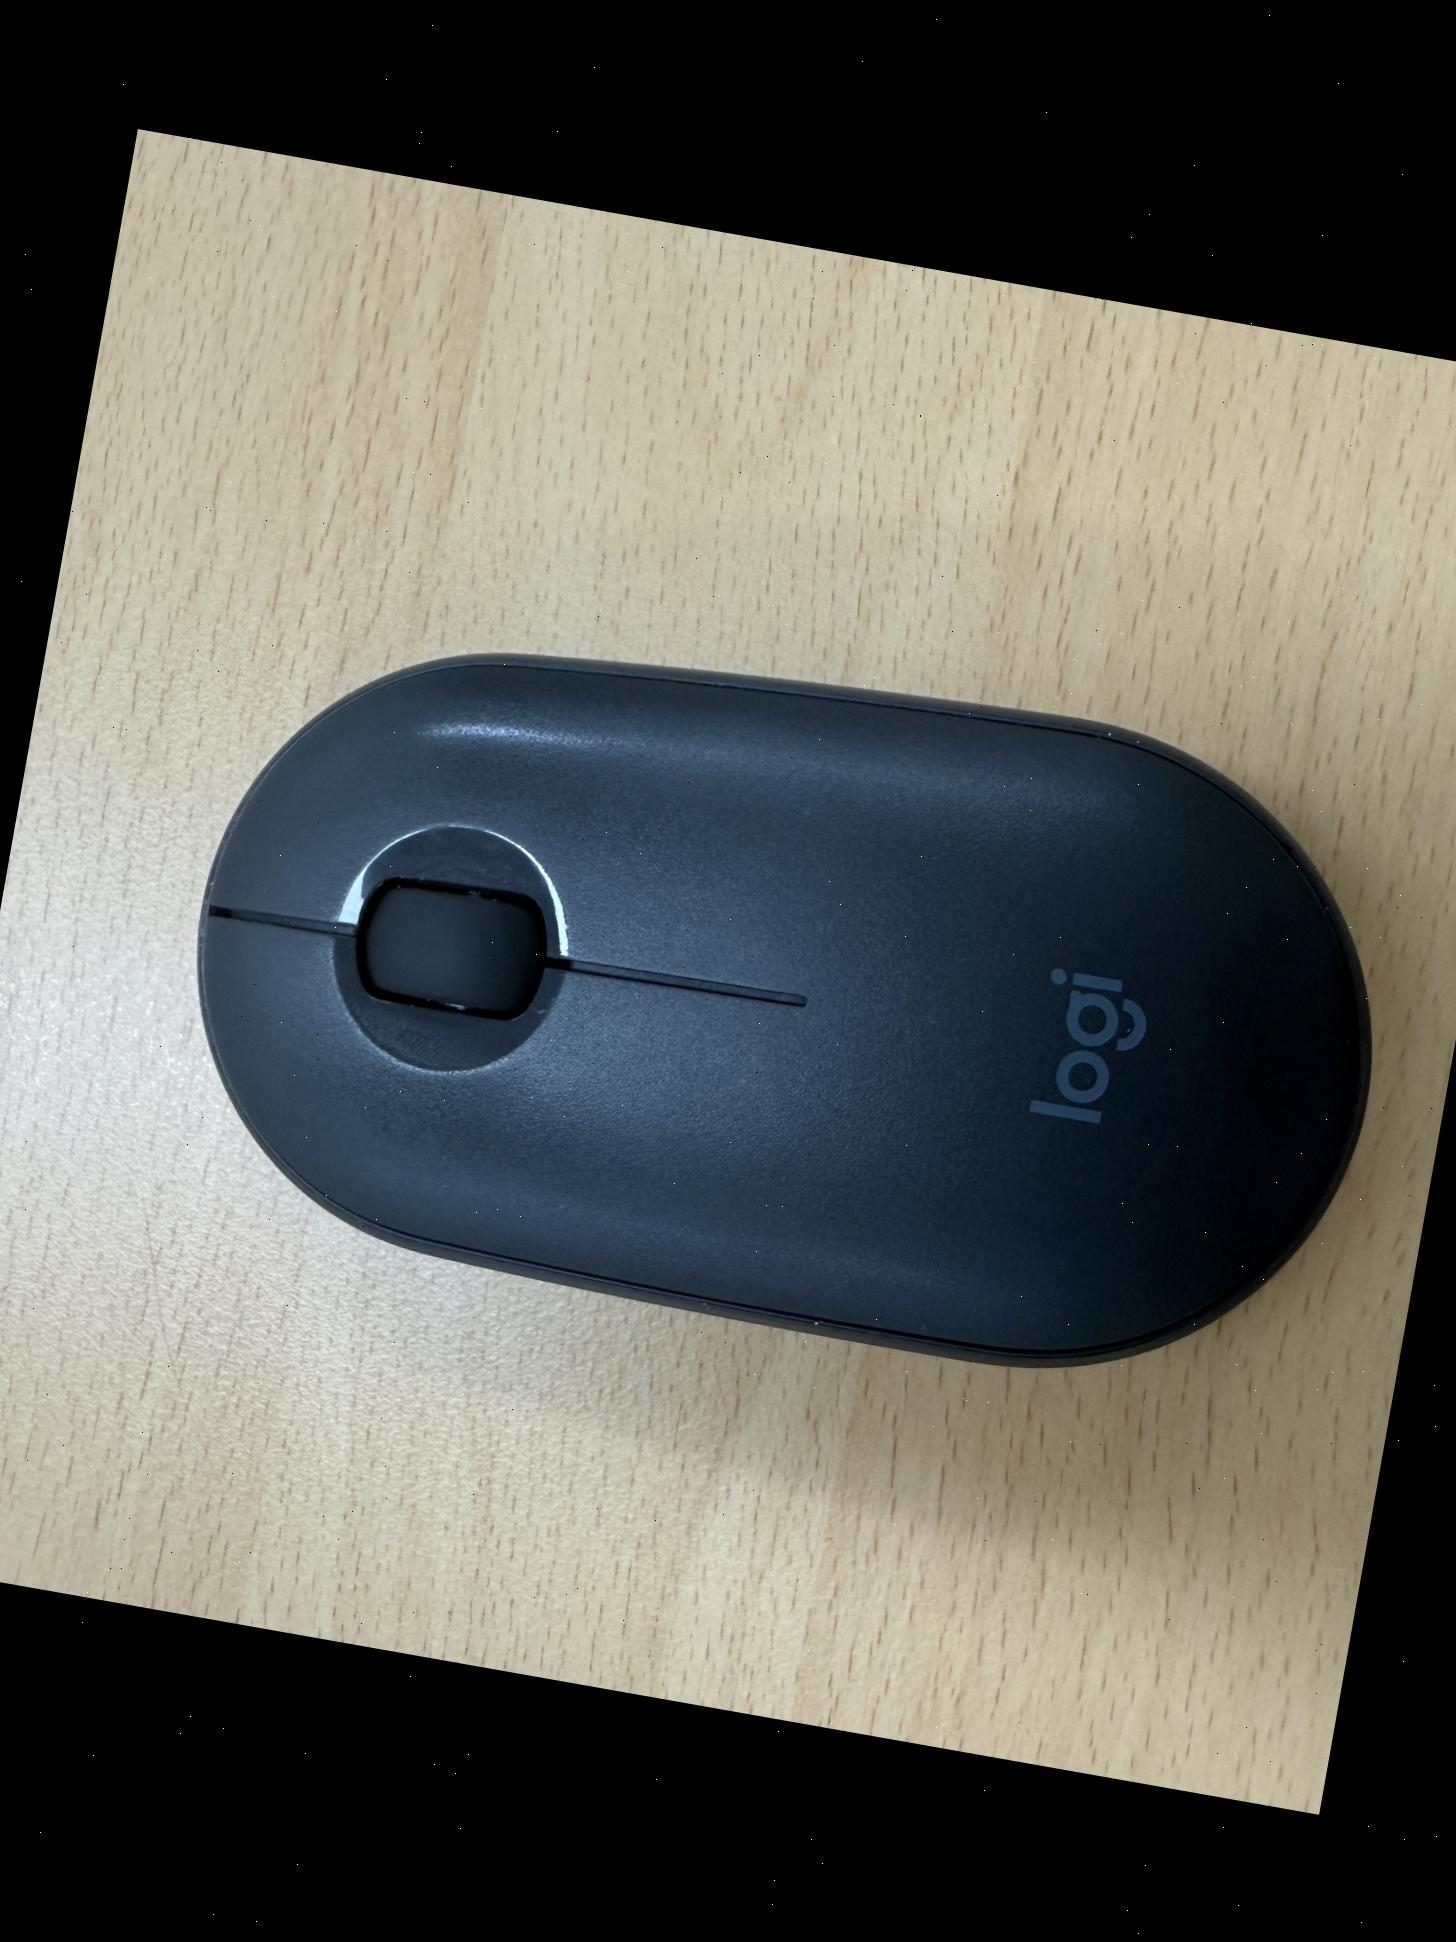front: (139, 566, 1435, 1430)
